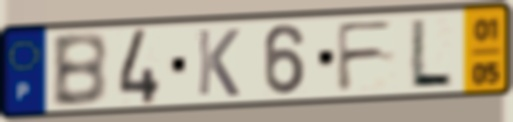4: (116, 26, 163, 108)
6: (262, 22, 309, 98)
B: (48, 30, 110, 109)
F: (333, 17, 398, 95)
K: (195, 27, 242, 99)
L: (405, 16, 456, 89)
